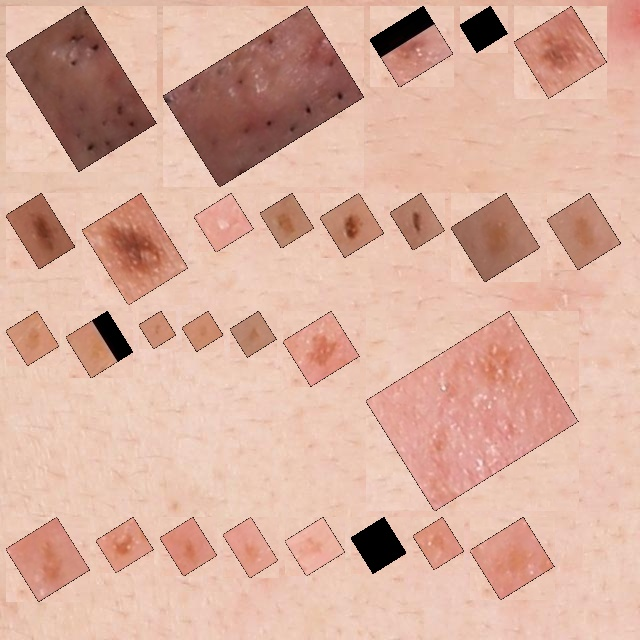hypertrophic_scar: (174, 17, 353, 176), (17, 17, 145, 160)
melasma: (377, 322, 567, 500), (462, 204, 529, 271), (17, 528, 79, 590), (481, 528, 543, 589), (294, 322, 348, 375), (558, 204, 610, 259), (77, 322, 122, 367), (296, 528, 334, 565), (171, 528, 206, 565), (234, 528, 267, 567), (107, 528, 142, 562), (362, 528, 395, 562), (271, 204, 303, 237), (17, 322, 48, 354), (424, 528, 453, 558), (241, 322, 265, 346), (193, 322, 212, 340), (150, 322, 165, 337)
nevus: (93, 204, 177, 294), (525, 17, 596, 87), (381, 17, 442, 76), (17, 204, 64, 258), (331, 204, 373, 246), (401, 204, 434, 239), (471, 17, 496, 41)
pustule: (205, 204, 243, 241)
